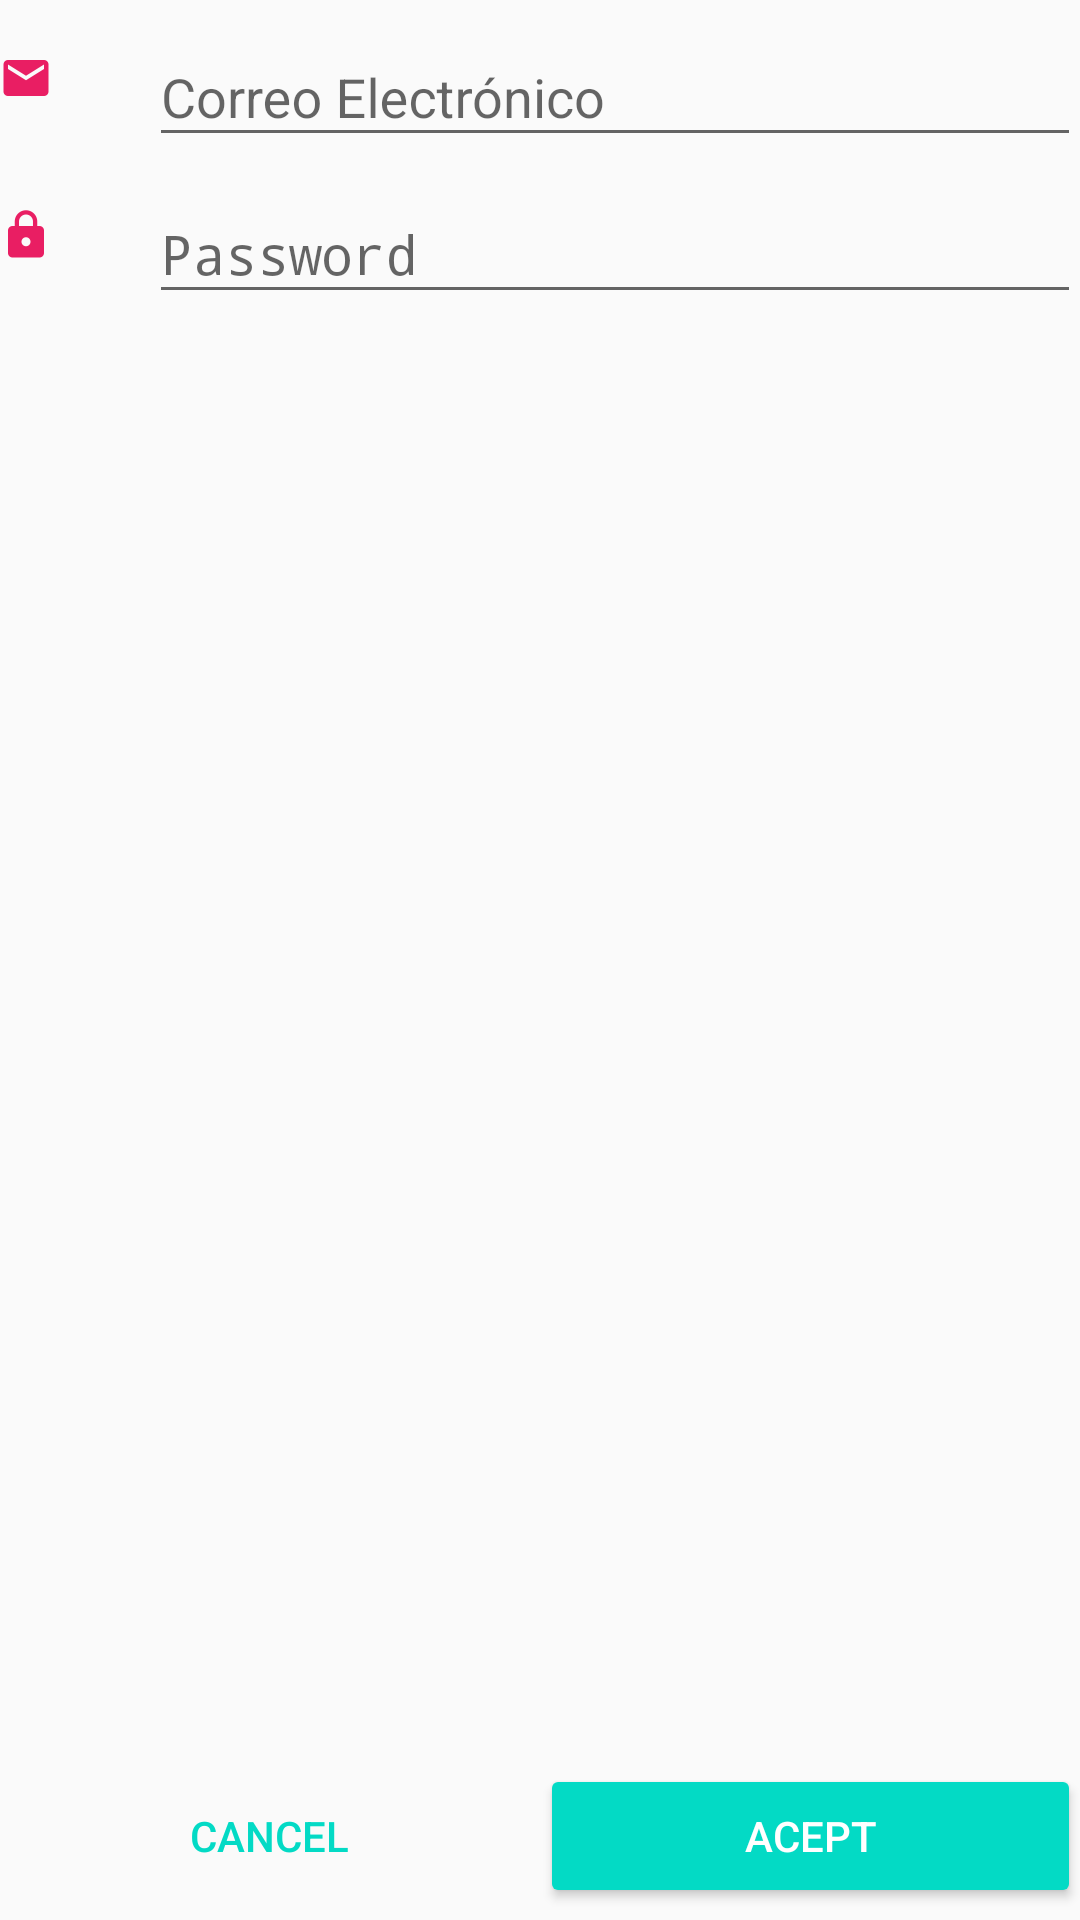

Named icons in this screenshot (1080*1920) and their centers, (x,y):
email: (26,78)
lock: (26,234)
